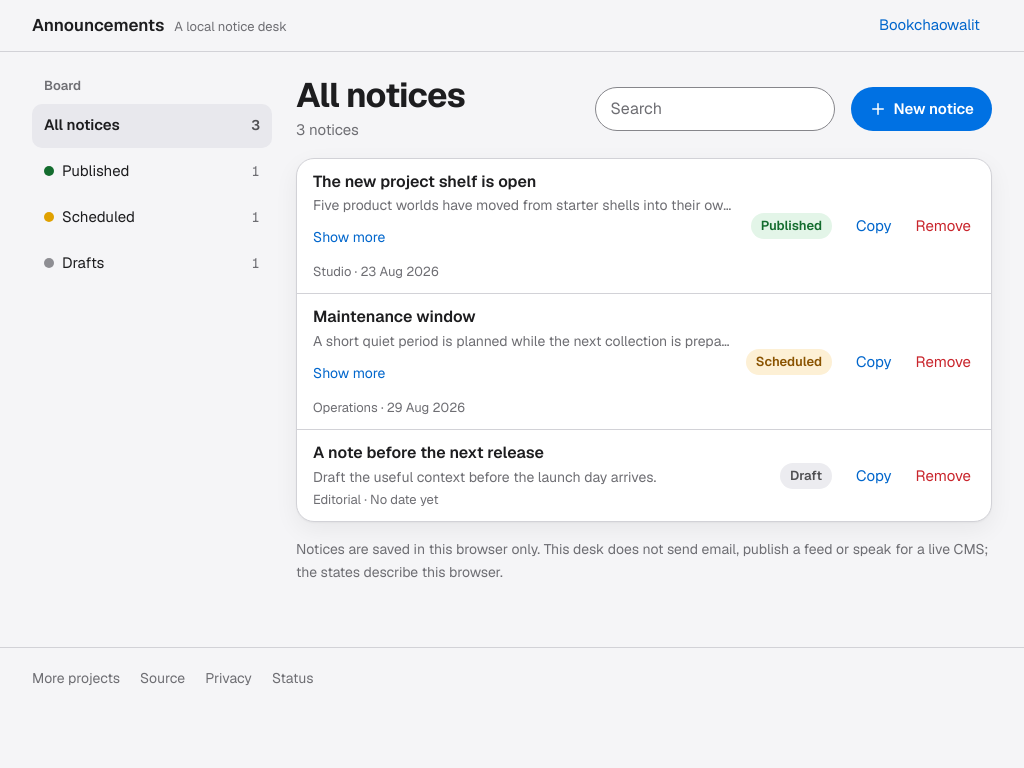
remove and undo › Escape and the timer close the toast; an empty board says how to start
Click the 1st button "Remove" at (943, 226), box top-left (904, 204), bottom-right (983, 248)
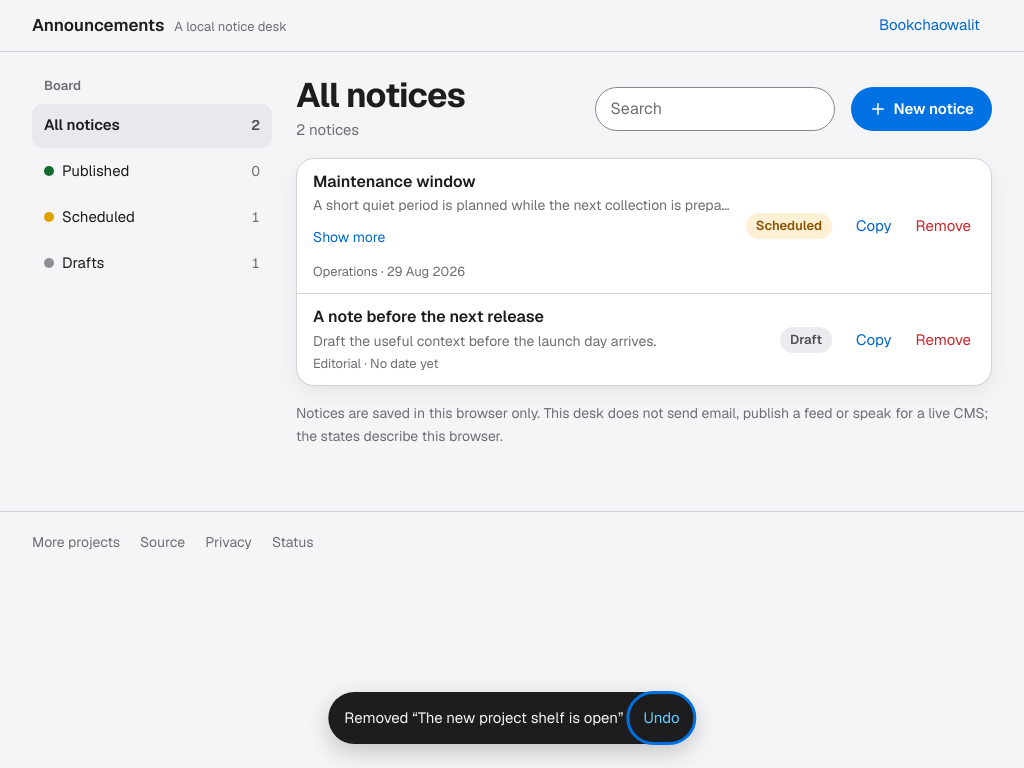
Press Escape in the element with class "as-toast", box top-left (328, 692), bottom-right (696, 744)
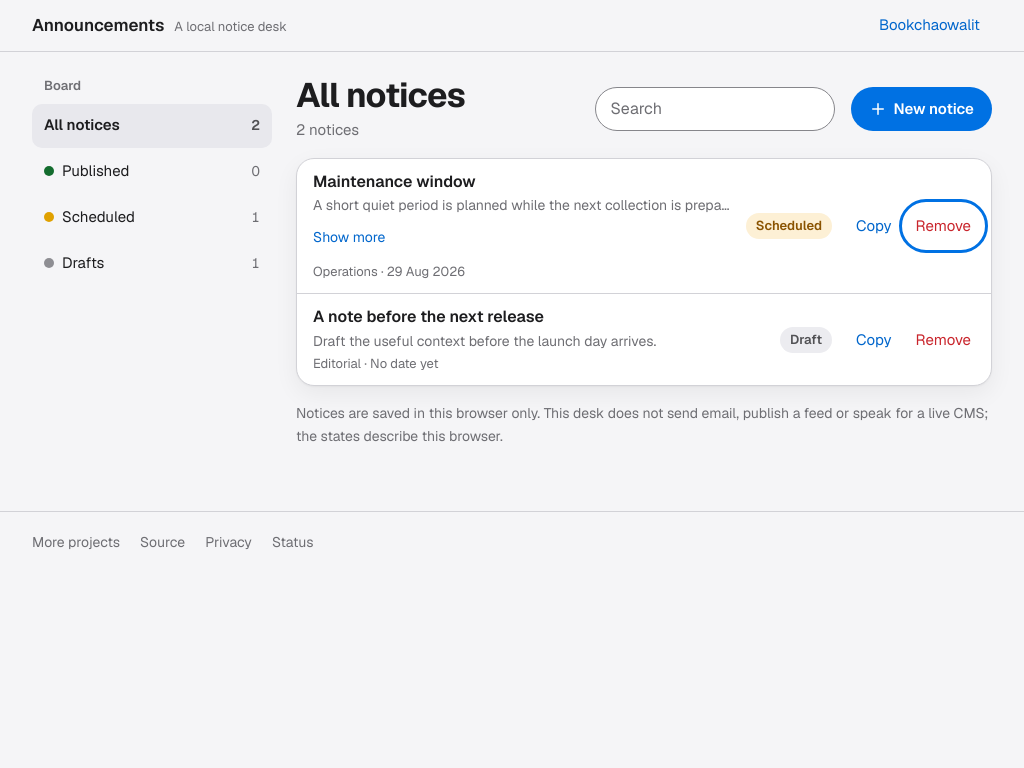
Click the 1st button with class "as-danger" at (943, 226), box top-left (904, 204), bottom-right (983, 248)
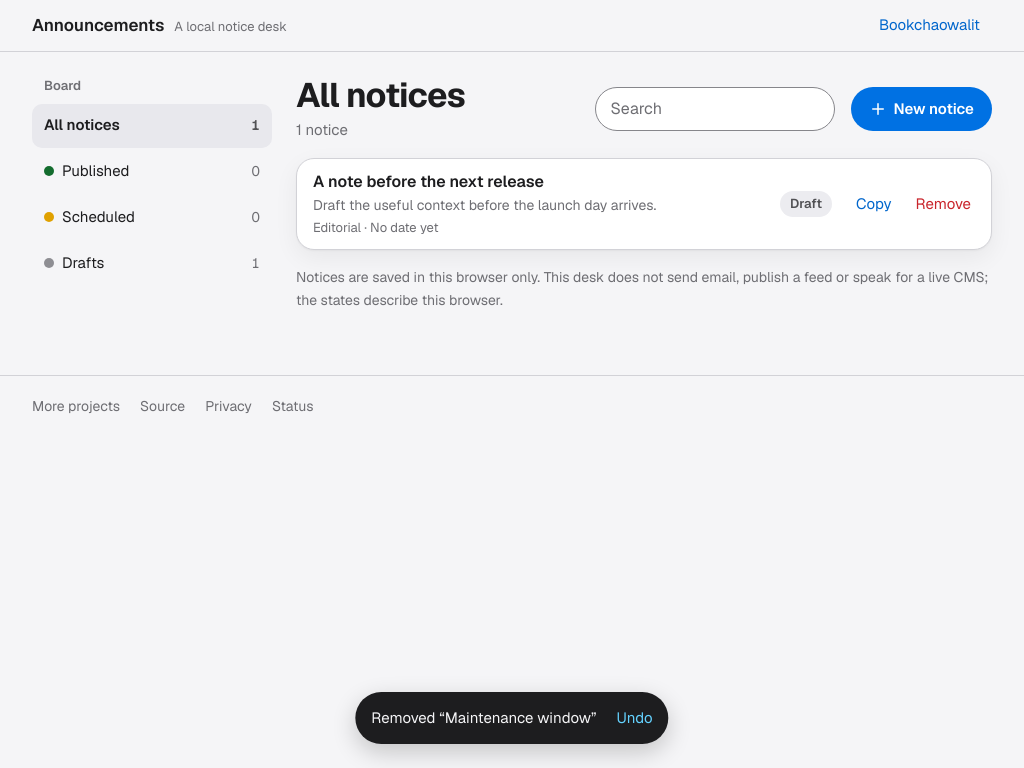
Click the button with aria-label "Remove A note before the next release" at (943, 204), box top-left (904, 182), bottom-right (983, 226)
Wait 6100 ms
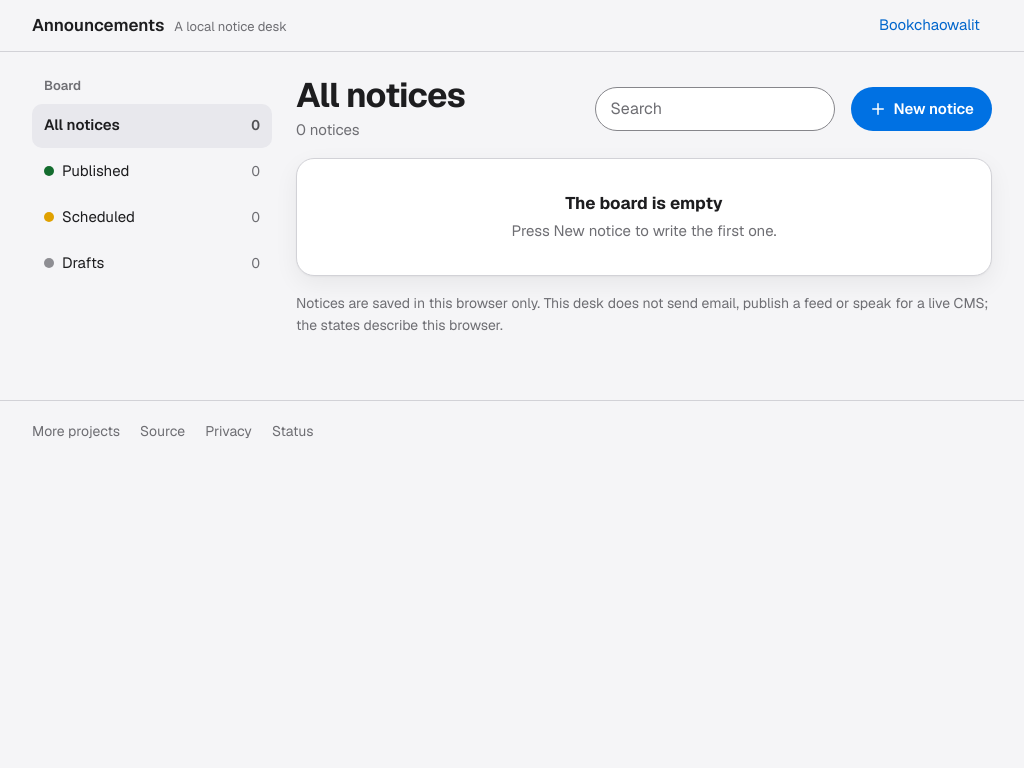
expect the element with class "as-toast" is gone: met
expect the text "The board is empty" is shown: met, box top-left (565, 192), bottom-right (723, 214)
